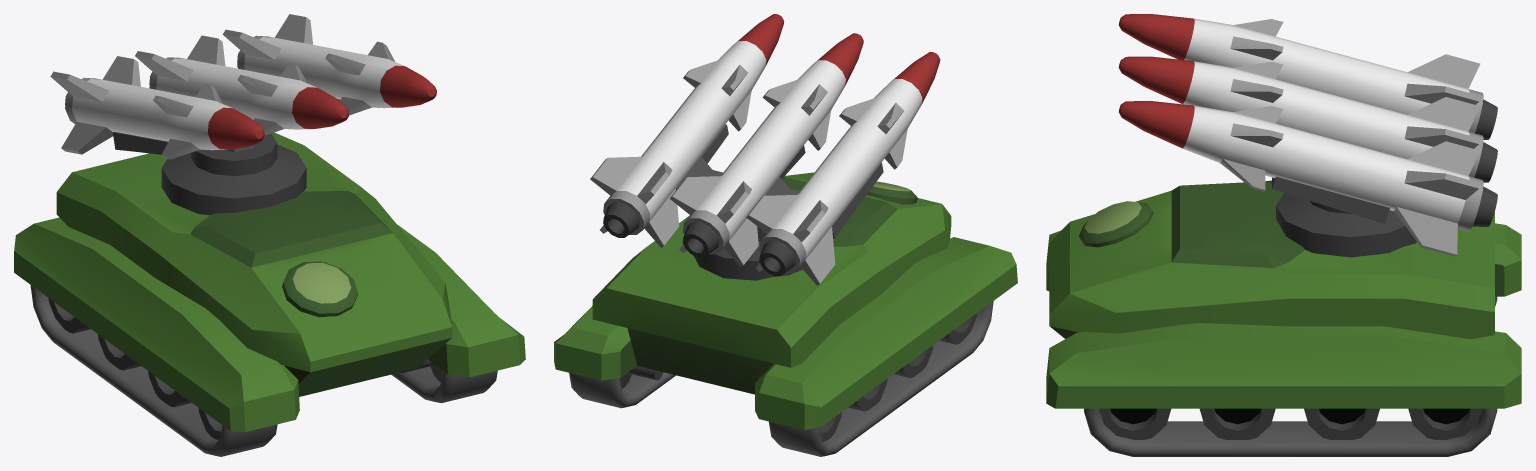
File: Tank 6.fbx
3 renders of one model, left to right at view 1: azimuth 30°, elevation 25°; view 2: azimuth 150°, elevation 25°; view 3: azimuth 270°, elevation 25°, orthographic. The views are drawn at different scales.
Visible parts, largest first — view 1: Cube.441, Cube.442, Cylinder.488, Cylinder.511, Cylinder.510, Circle.021, Cylinder.487, Cylinder.486, Cylinder.485, Cube.443; view 2: Cube.441, Cube.442, Cylinder.488, Cylinder.511, Cylinder.510, Circle.021, Cylinder.485, Cube.443, Cylinder.487, Cylinder.486; view 3: Cube.441, Cube.442, Cylinder.511, Cylinder.510, Cylinder.488, Circle.021, Cylinder.485, Cylinder.487, Cylinder.486, Cube.443.
Part boxes in pixels (x1,y1,x2,y2): Cube.441: [56, 132, 452, 396]; Cube.442: [14, 217, 525, 431]; Cylinder.488: [50, 56, 264, 159]; Cylinder.511: [223, 14, 436, 115]; Cylinder.510: [135, 35, 348, 135]; Circle.021: [30, 285, 497, 456]; Cylinder.487: [161, 133, 306, 215]; Cylinder.486: [282, 261, 358, 317]; Cylinder.485: [48, 298, 442, 439]; Cube.443: [112, 99, 340, 154]; Cube.441: [592, 172, 951, 394]; Cube.442: [554, 237, 1017, 430]; Cylinder.488: [746, 52, 940, 285]; Cylinder.511: [590, 14, 784, 247]; Cylinder.510: [669, 33, 863, 266]; Circle.021: [569, 301, 993, 456]; Cylinder.485: [620, 313, 977, 441]; Cube.443: [676, 124, 883, 238]; Cylinder.487: [693, 226, 802, 280]; Cylinder.486: [867, 181, 917, 204]; Cube.441: [1049, 180, 1494, 339]; Cube.442: [1046, 223, 1521, 408]; Cylinder.511: [1119, 101, 1497, 256]; Cylinder.510: [1118, 56, 1497, 182]; Cylinder.488: [1119, 14, 1497, 139]; Circle.021: [1084, 296, 1497, 456]; Cylinder.485: [1099, 408, 1481, 439]; Cylinder.487: [1276, 193, 1416, 257]; Cylinder.486: [1079, 201, 1153, 247]; Cube.443: [1272, 176, 1389, 223].
Bounding box in the file's own units: 843 × 873 × 1137.
